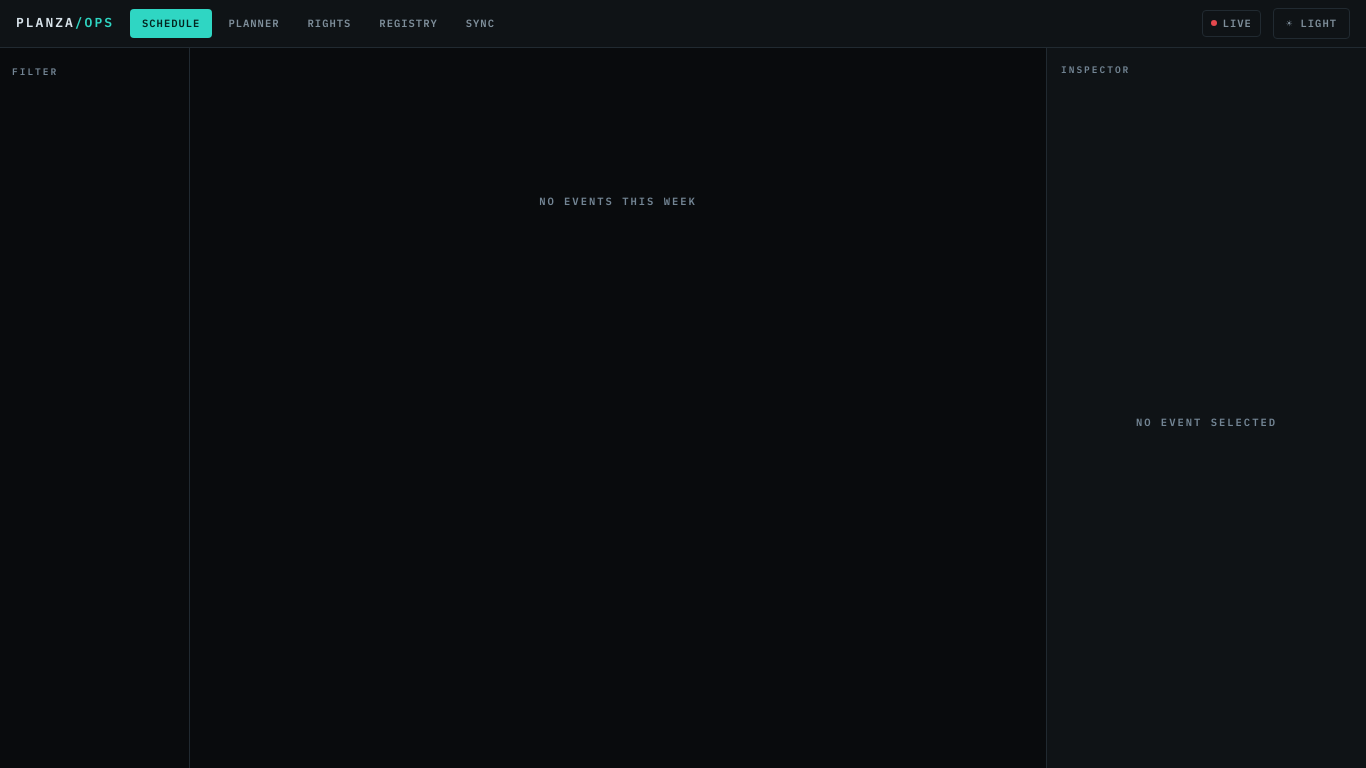
it: routing inside the shell › tab sync reaches its screen
This screenshot has width=1366, height=768.
Click the link "SYNC": {"x": 480, "y": 23} [466,16,495,30]
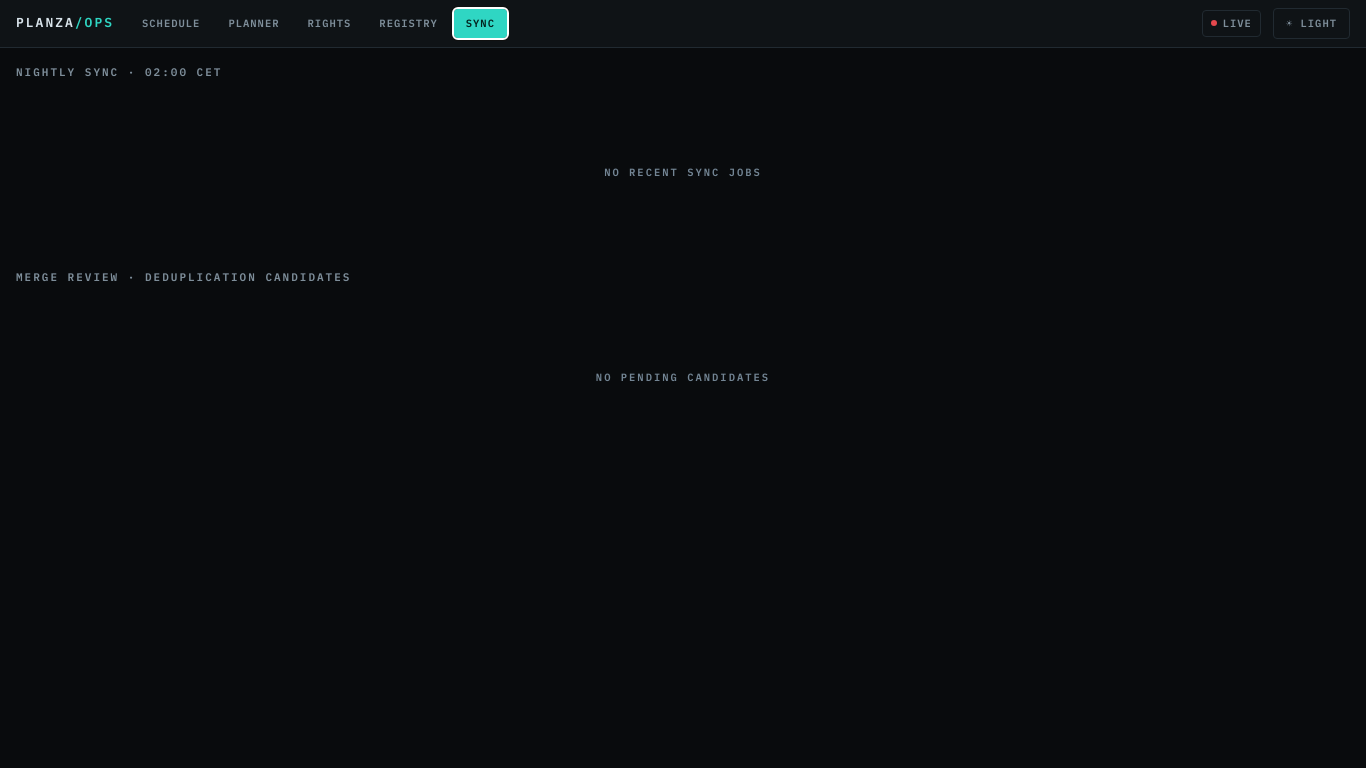
Check: the element with test id "ops-screen-sync" is shown, box [16,65,770,384]
